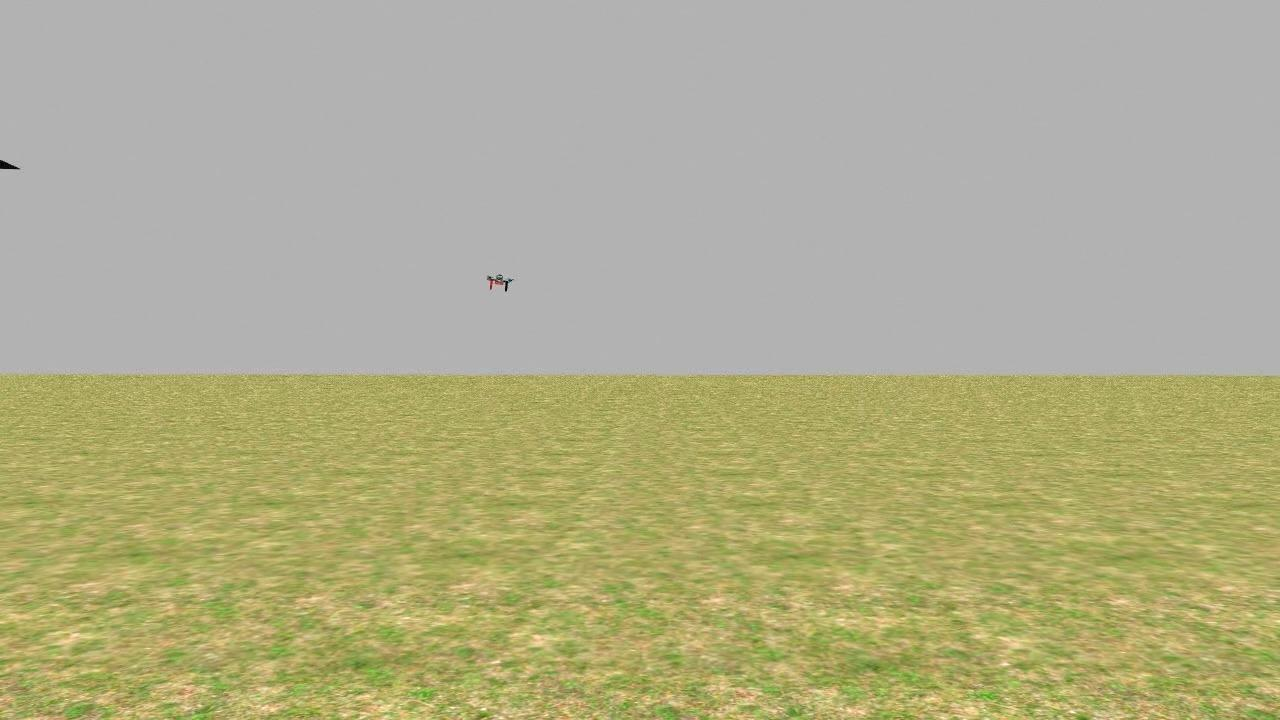UAV: (475, 263, 519, 301)
